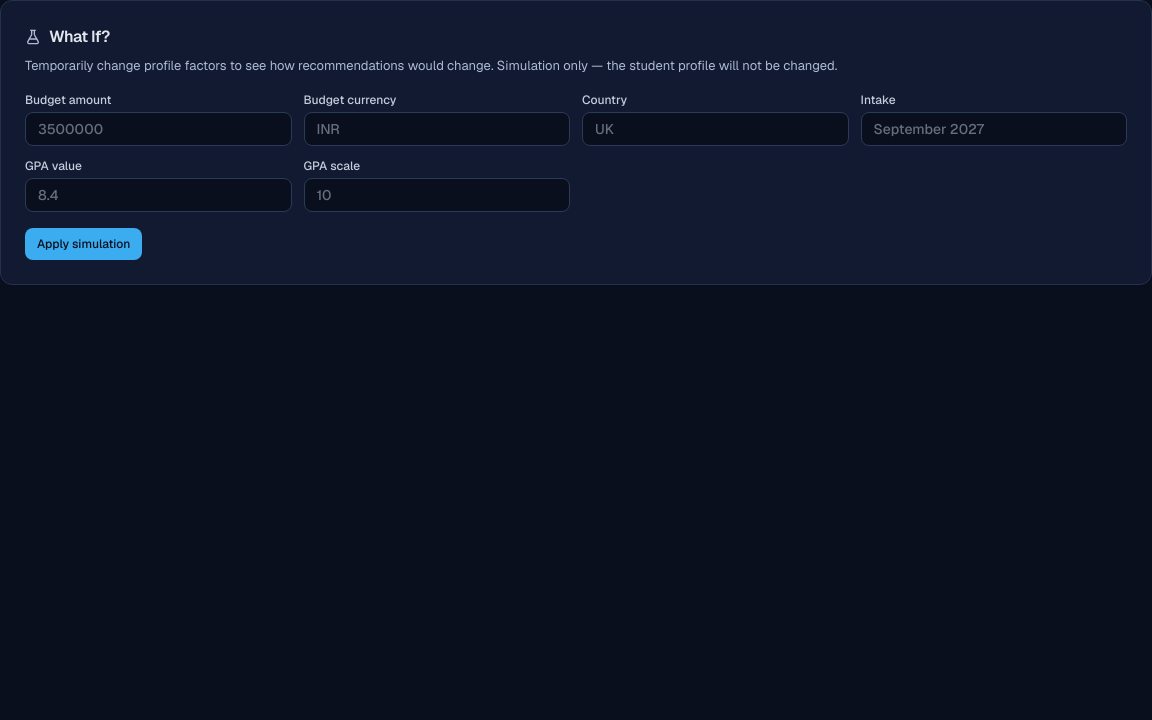
WhatIfPanel › resets back to baseline without further requests
In the field named "Scenario country": (715, 129) [582,112,848,146], type "Canada"
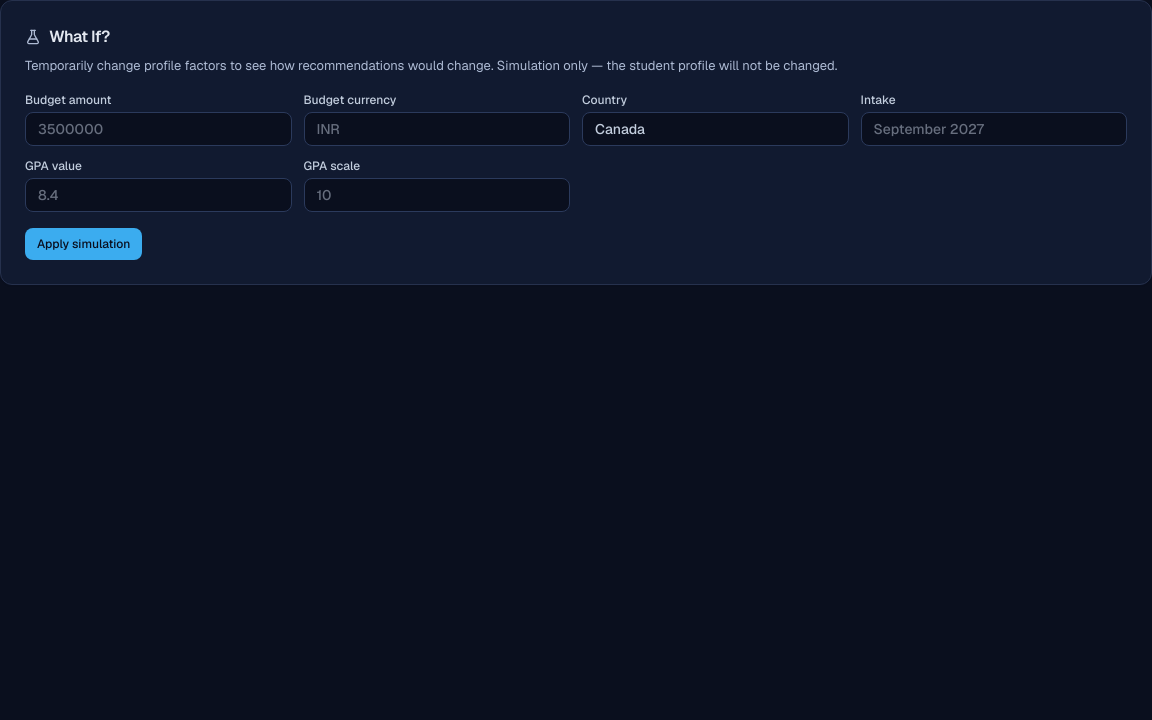
Click the button "Apply simulation": (84, 244) [25,228,142,260]
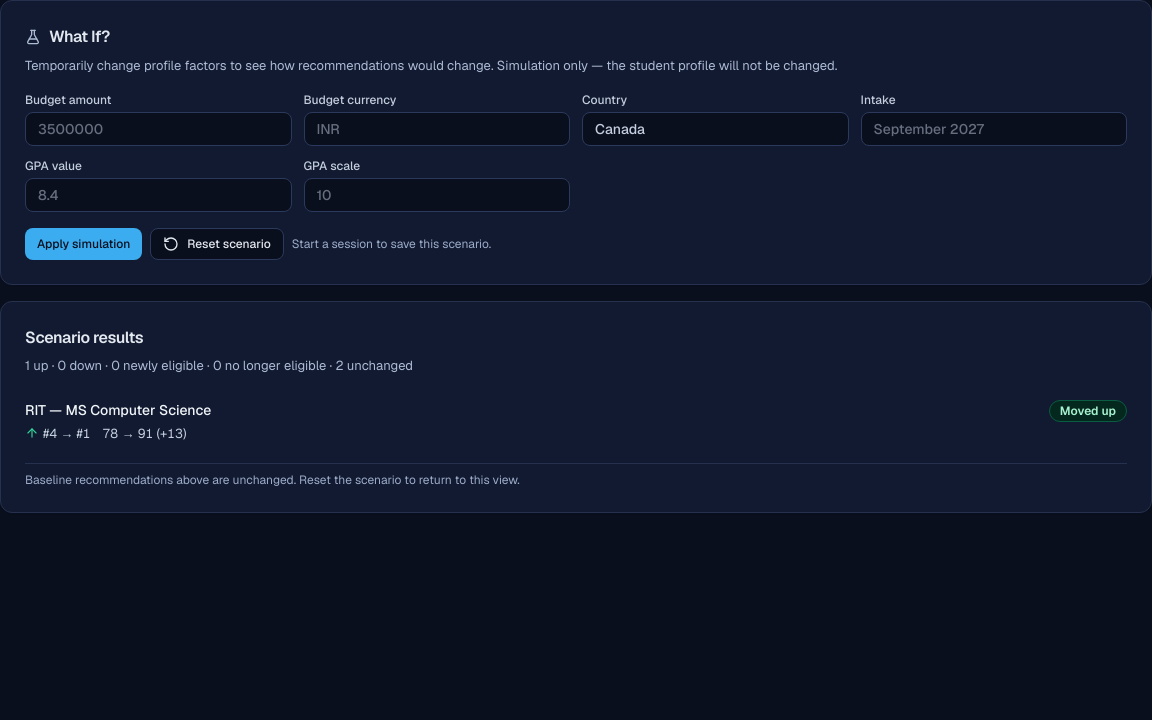
Expected: the text "Scenario results" is shown, [25,327,143,348]
Click the button "Reset scenario": (217, 244) [150,228,284,260]
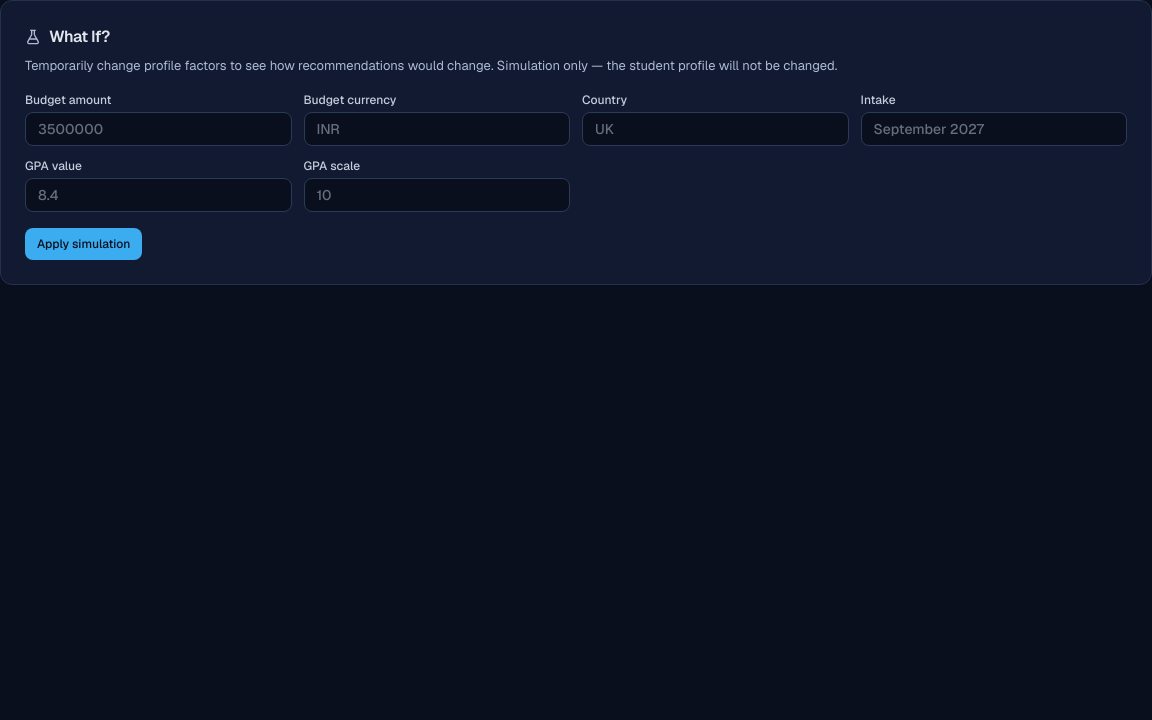
Expected: the text "Scenario results" is gone
